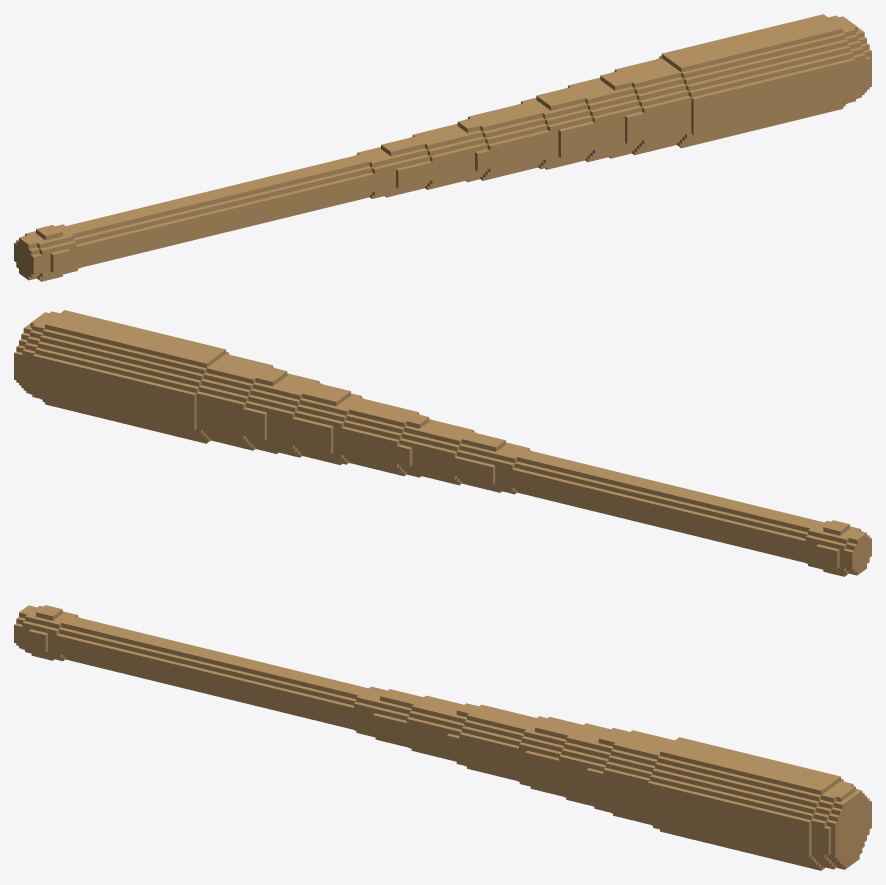
Rendered from baseball_bat.glb.
3 views of the same model, one above another, from view 1: azimuth 30°, elevation 25°; view 2: azimuth 150°, elevation 25°; view 3: azimuth 330°, elevation 25° (orthographic).
Visible parts, largest first — view 1: baseball_bat:bat; view 2: baseball_bat:bat; view 3: baseball_bat:bat.
Part boxes in pixels (x1,y1,x2,y2): baseball_bat:bat: (14, 14, 871, 281); baseball_bat:bat: (14, 310, 871, 576); baseball_bat:bat: (14, 605, 871, 870).
Size of the model in its own units: 0.78 by 0.072 by 0.072.
